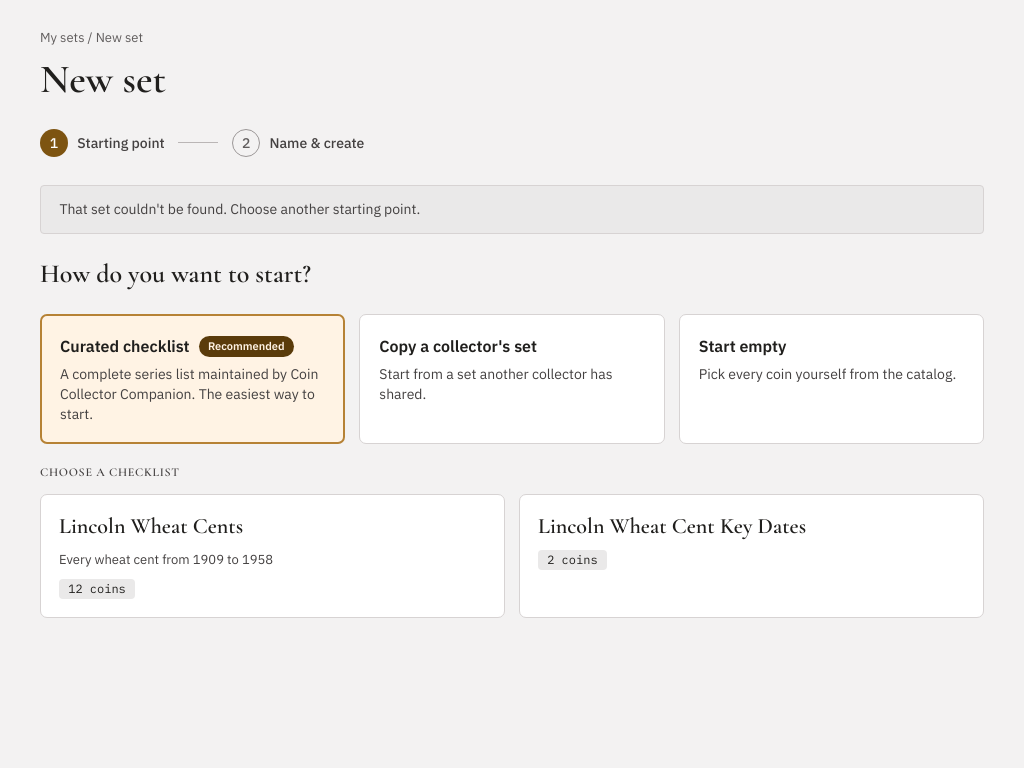
Test: NewSetPage › criterion 4: unknown or missing source id › clears the note when the user switches option and presses Continue
Expected: the text "That set couldn't be found. Choose another starting point." is shown, [40,184,984,234]
Click the radio button with test id "set-new-option-blank" at coordinates (831, 379), box [679,314,984,444]
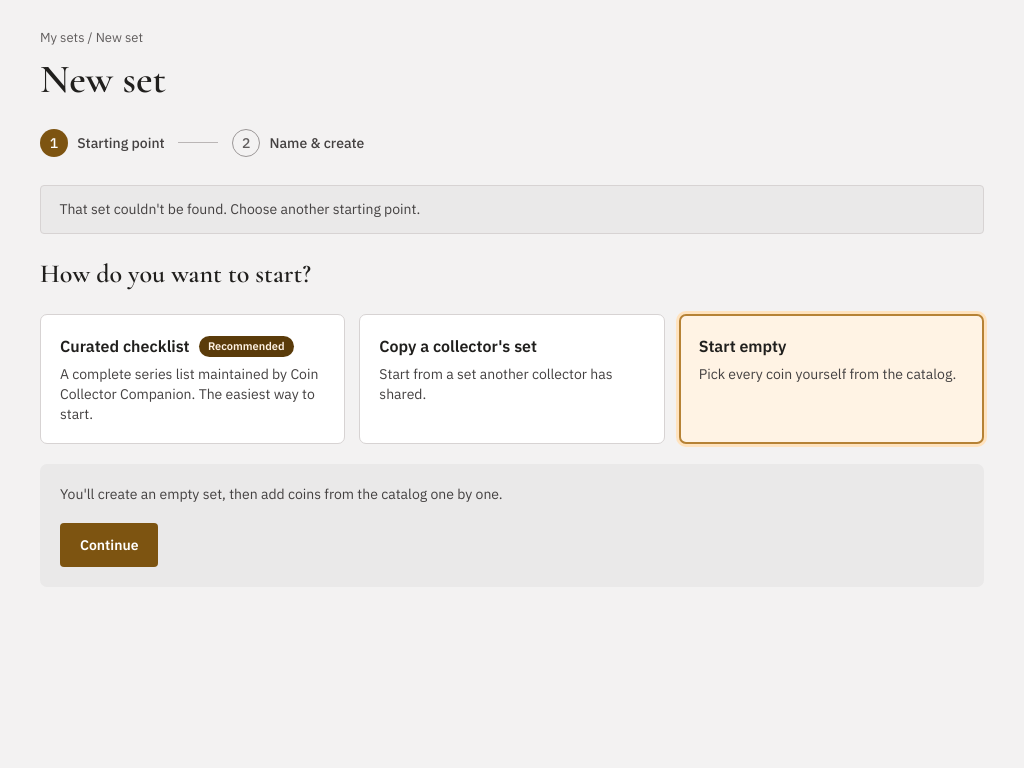
Click the button with test id "set-new-continue" at coordinates (109, 545), box [60,523,158,567]
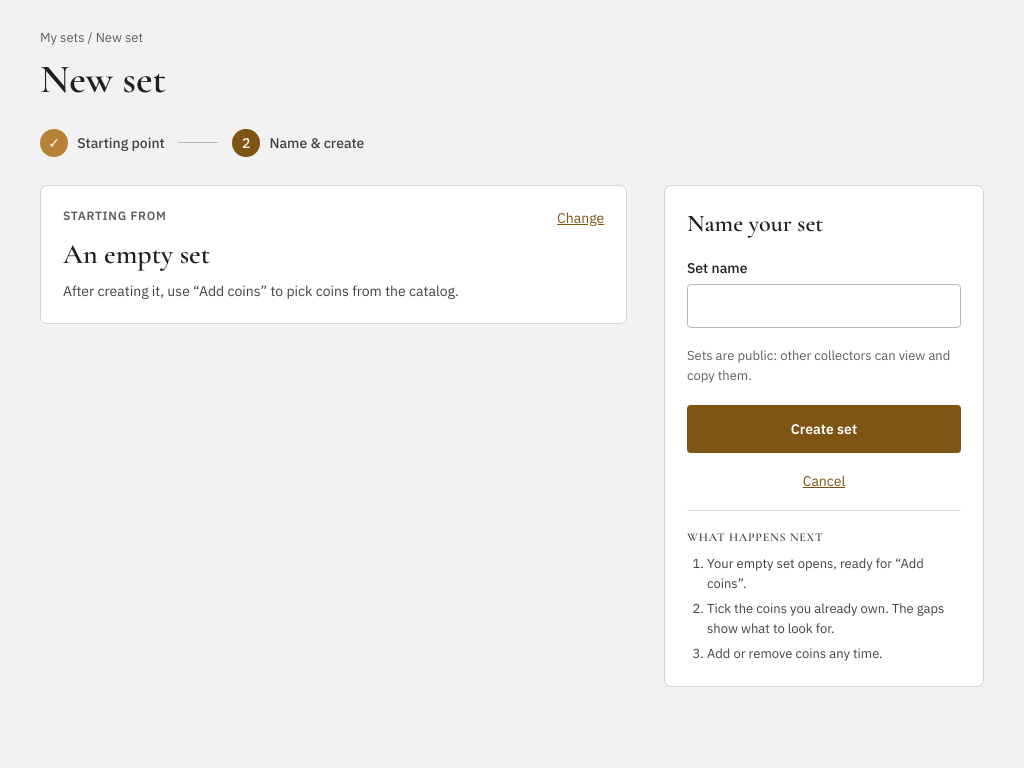
Expected: the text with test id "set-new-not-found" is gone
Expected: the element with test id "set-new-step-2" is shown
